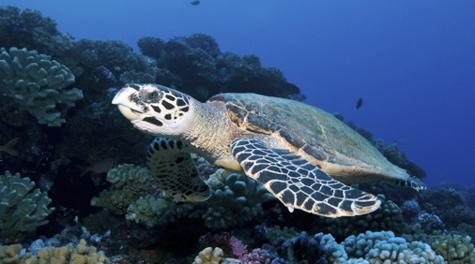turtle: (107, 75, 201, 145)
